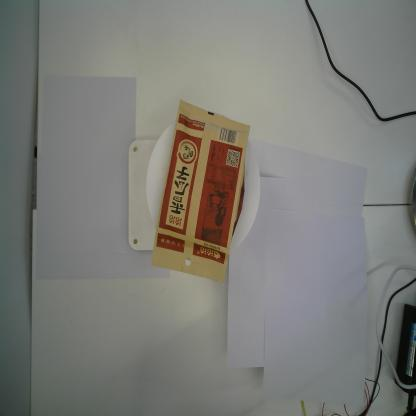Dried Food: (150, 99, 251, 284)
